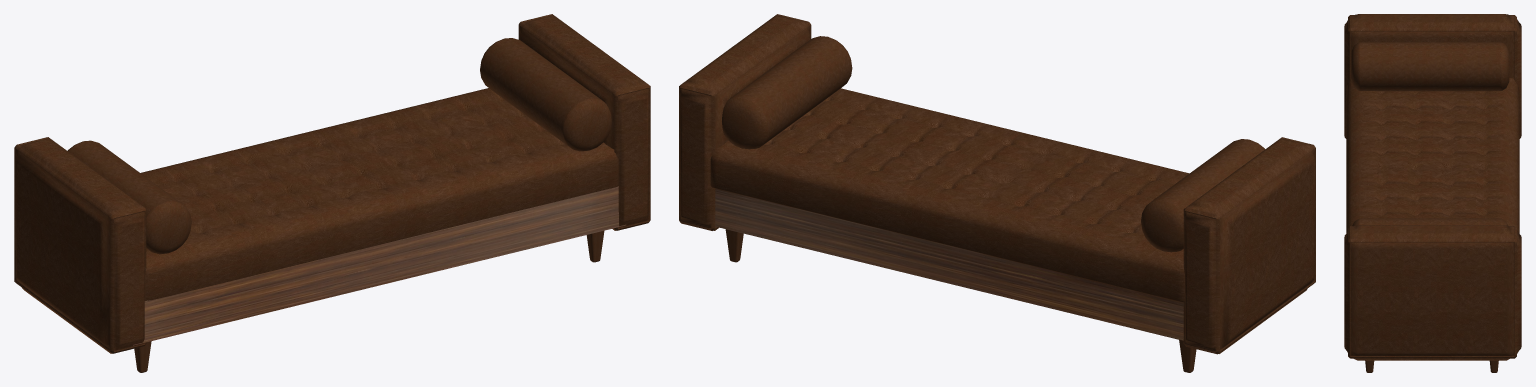
3 views of the same model, side by side, from view 1: azimuth 30°, elevation 25°; view 2: azimuth 150°, elevation 25°; view 3: azimuth 270°, elevation 25° (orthographic). The views are drawn at different scales.
Parts seen in each view (by area): view 1: LP1, pCube29, pCube108, pCube109, pCylinder10, pCylinder7; view 2: LP1, pCube29, pCube108, pCube109, pCylinder10, pCylinder7; view 3: pCube109, LP1, pCylinder7, pCube29, pCylinder10.
Part boxes in pixels (x1=…): LP1: x1=140, y1=88, x2=618, y2=300; pCube29: x1=14, y1=137, x2=146, y2=353; pCube108: x1=133, y1=186, x2=625, y2=345; pCube109: x1=518, y1=14, x2=650, y2=230; pCylinder10: x1=480, y1=38, x2=611, y2=151; pCylinder7: x1=67, y1=140, x2=191, y2=254; LP1: x1=710, y1=88, x2=1189, y2=302; pCube29: x1=1183, y1=137, x2=1315, y2=354; pCube108: x1=715, y1=188, x2=1183, y2=340; pCube109: x1=679, y1=14, x2=811, y2=230; pCylinder10: x1=722, y1=36, x2=852, y2=149; pCylinder7: x1=1141, y1=139, x2=1265, y2=252; pCube109: x1=1344, y1=225, x2=1521, y2=360; LP1: x1=1346, y1=78, x2=1519, y2=233; pCylinder7: x1=1351, y1=42, x2=1509, y2=91; pCube29: x1=1344, y1=14, x2=1521, y2=138; pCylinder10: x1=1352, y1=218, x2=1507, y2=225.
Size of the model in its own units: 19.81 by 6.11 by 6.4.
4 materials, 4 textured.
